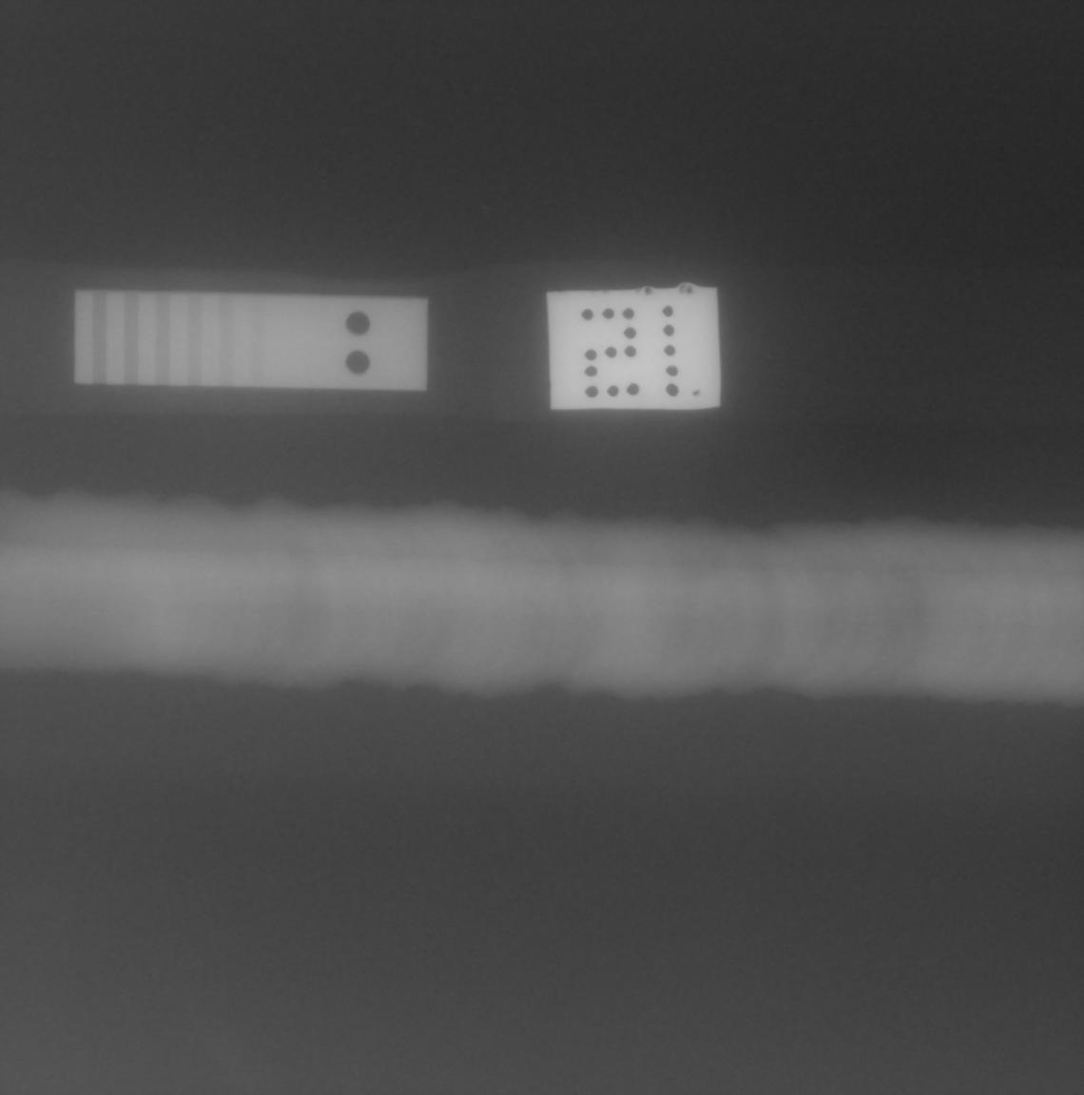Reference Standard 2: (74, 289, 428, 392)
